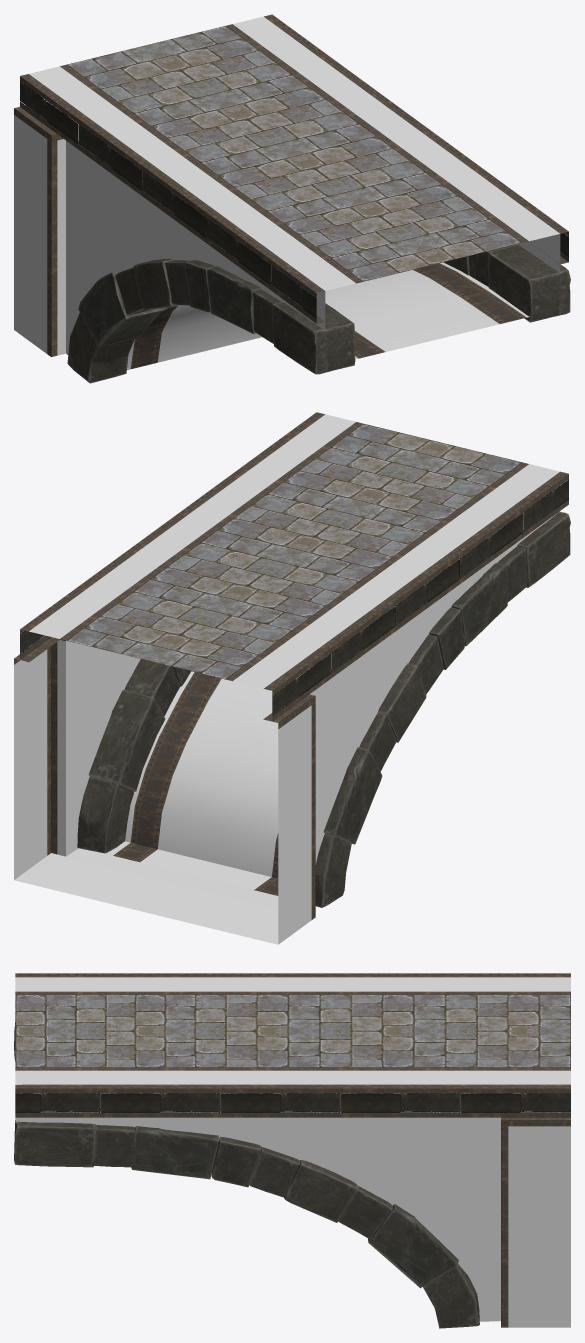
3 views of the same model, one above another, from view 1: azimuth 30°, elevation 25°; view 2: azimuth 150°, elevation 25°; view 3: azimuth 270°, elevation 25° (orthographic). The views are drawn at different scales.
Parts seen in each view (by area): view 1: SM_Dowdun_Bridge_L_01_LOD0; view 2: SM_Dowdun_Bridge_L_01_LOD0; view 3: SM_Dowdun_Bridge_L_01_LOD0.
Boxes of the visible parts, x1,y1,x2,y2 form: SM_Dowdun_Bridge_L_01_LOD0: (14, 14, 570, 383); SM_Dowdun_Bridge_L_01_LOD0: (14, 412, 570, 944); SM_Dowdun_Bridge_L_01_LOD0: (14, 973, 570, 1328).
Size of the model in its own units: 9 by 8.33 by 17.54.
4 materials, 3 textured.
